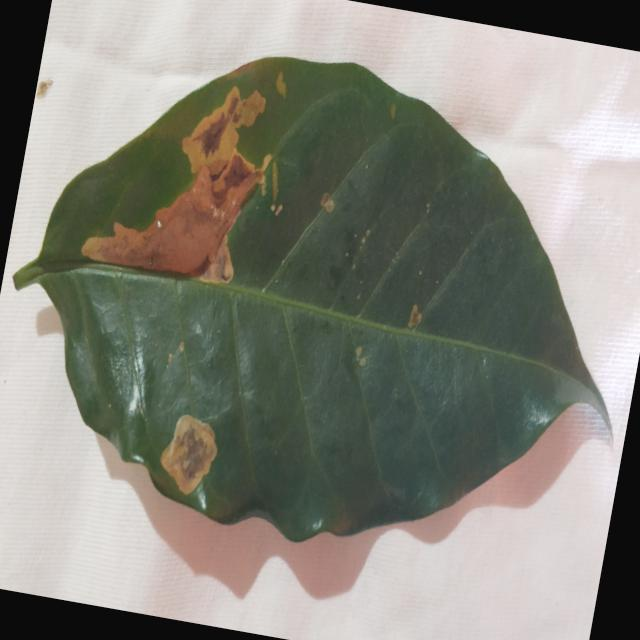KaratDaunKopi: (81, 88, 270, 282), (160, 415, 217, 494), (407, 304, 422, 328), (271, 160, 278, 202), (275, 72, 286, 98), (320, 193, 333, 212)
